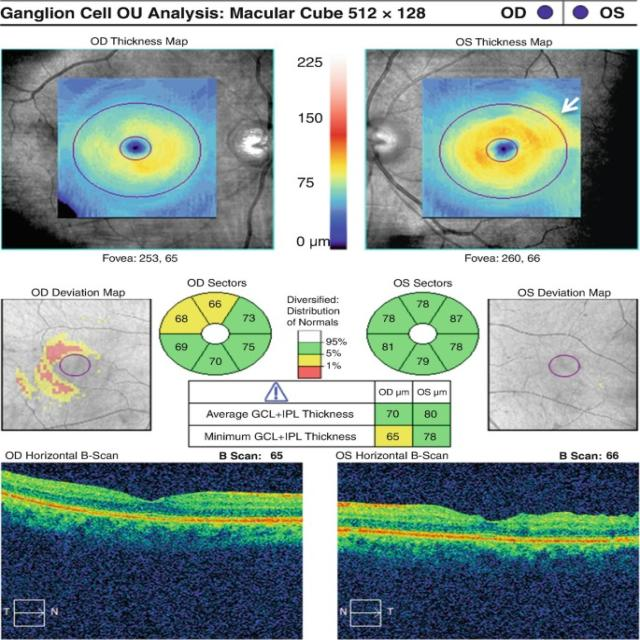average gcl and ipl thickness: (196, 405, 443, 423)
average gcl and ipl thickness-od: (384, 407, 404, 422)
average gcl and ipl thickness-os: (419, 405, 442, 421)
minimum gcl and ipl thickness: (199, 428, 441, 443)
minimum gcl and ipl thickness-od: (384, 432, 404, 444)
minimum gcl and ipl thickness-os: (421, 432, 440, 444)
